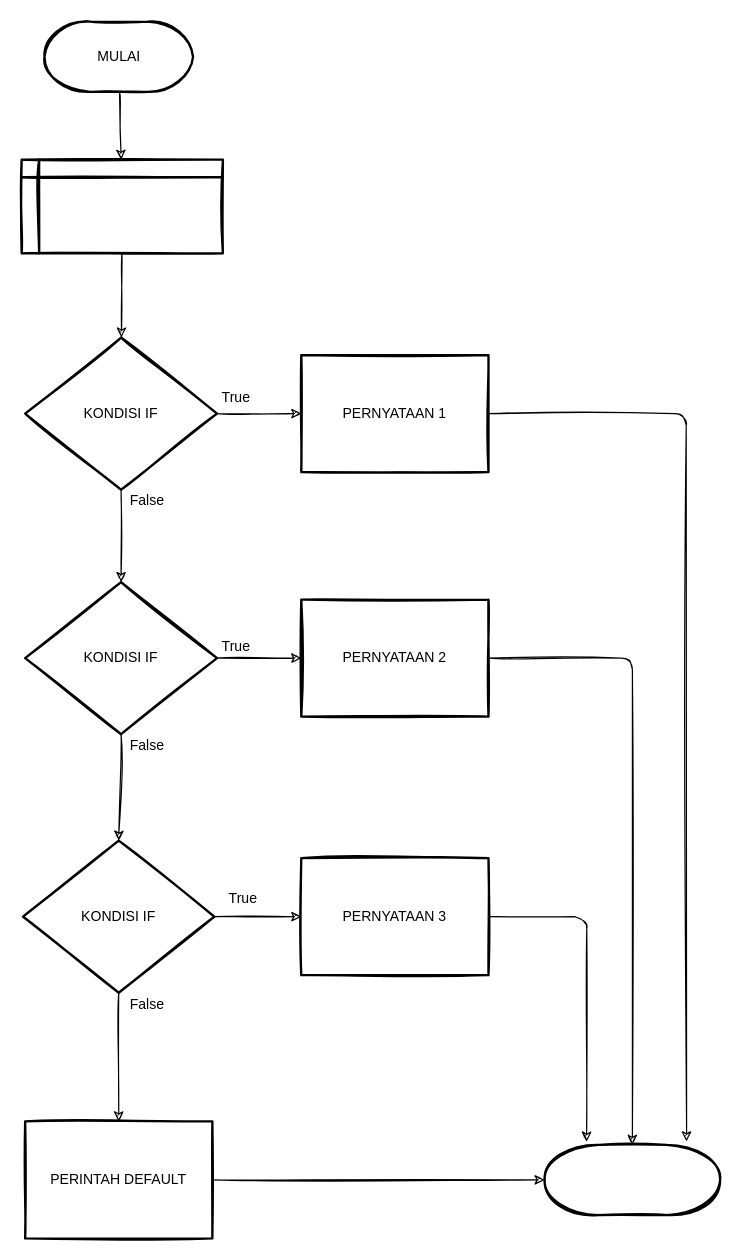
Some shapes in this 741 by 1259 pixel diagram are drawn without their labels. Each missing label, with the centre of its shape:
DEKLARASI: (121,206)
SELESAI: (632,1179)
